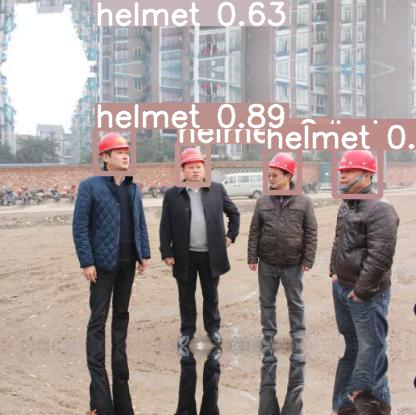helmet: (334, 144, 380, 196), (95, 128, 133, 173), (265, 149, 299, 192), (177, 143, 208, 184), (95, 0, 129, 9)
